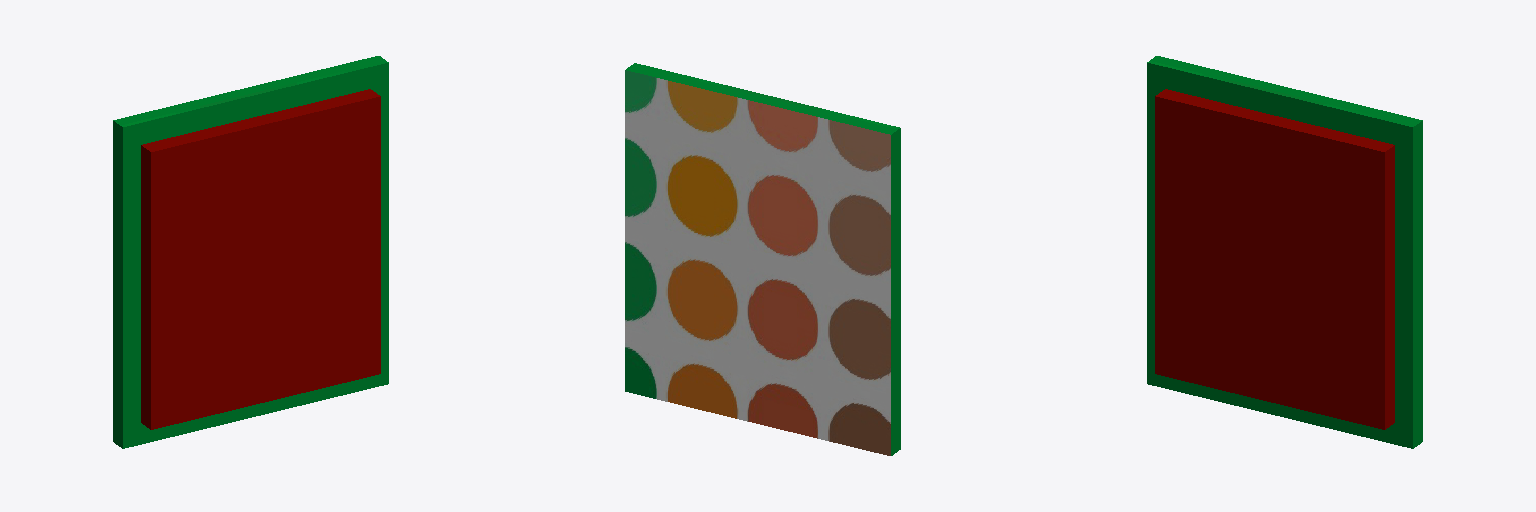
3 views of the same model, side by side, from view 1: azimuth 30°, elevation 25°; view 2: azimuth 150°, elevation 25°; view 3: azimuth 330°, elevation 25° (orthographic).
Parts seen in each view (by area): view 1: CPU_Cube.002; view 2: CPU_Cube.002; view 3: CPU_Cube.002.
Part boxes in pixels (x1,y1,x2,y2): CPU_Cube.002: (113,56,388,448); CPU_Cube.002: (625,63,900,455); CPU_Cube.002: (1147,56,1422,448).
Bounding box in the file's own units: 1.06 × 1.23 × 0.1372.
2 materials, 1 textured.